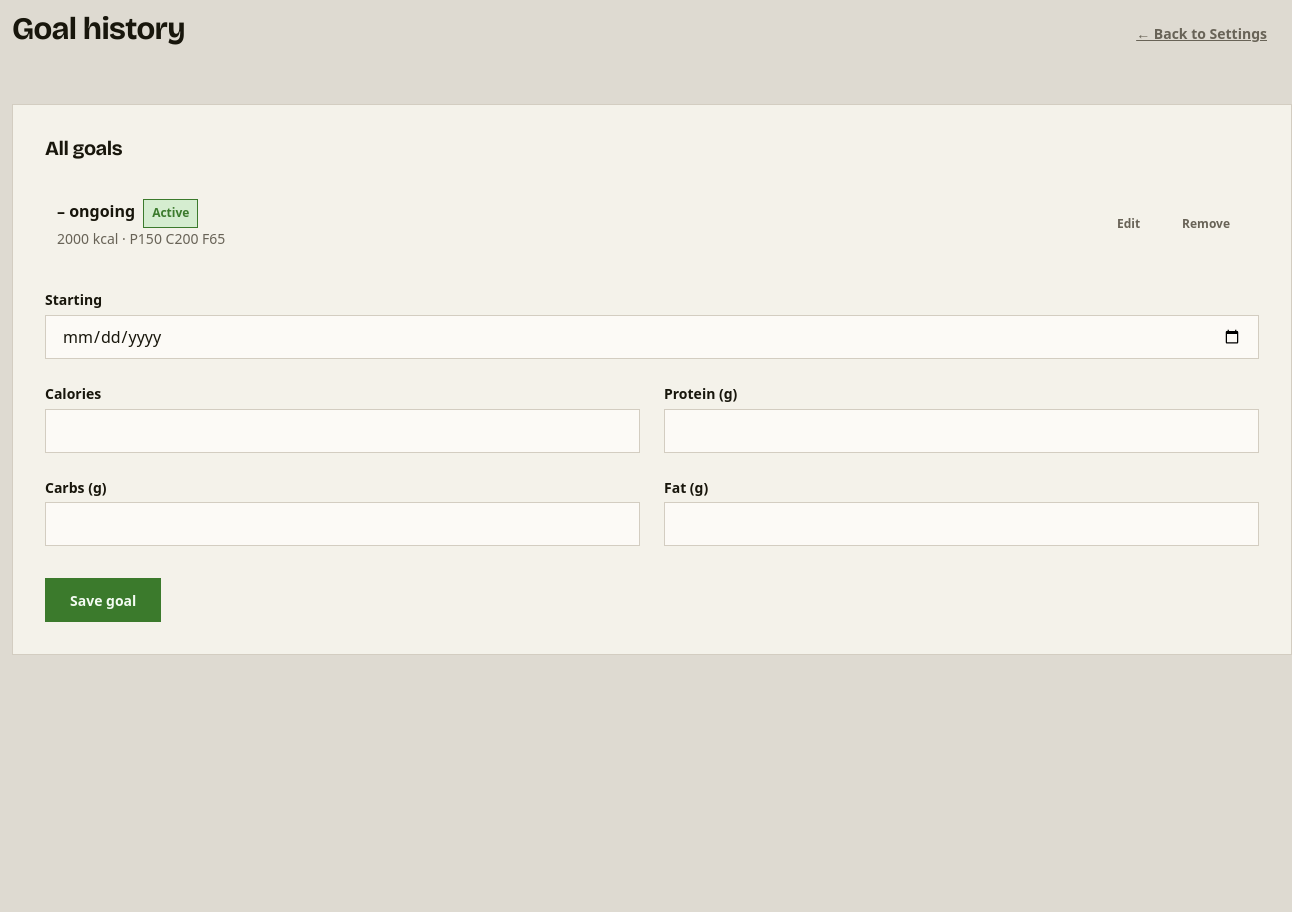
Scenario: GoalHistory › removes a version
The width and height of the screenshot is (1292, 912).
Click the button "Remove".
click(1206, 224)  # box [1165,206,1247,242]
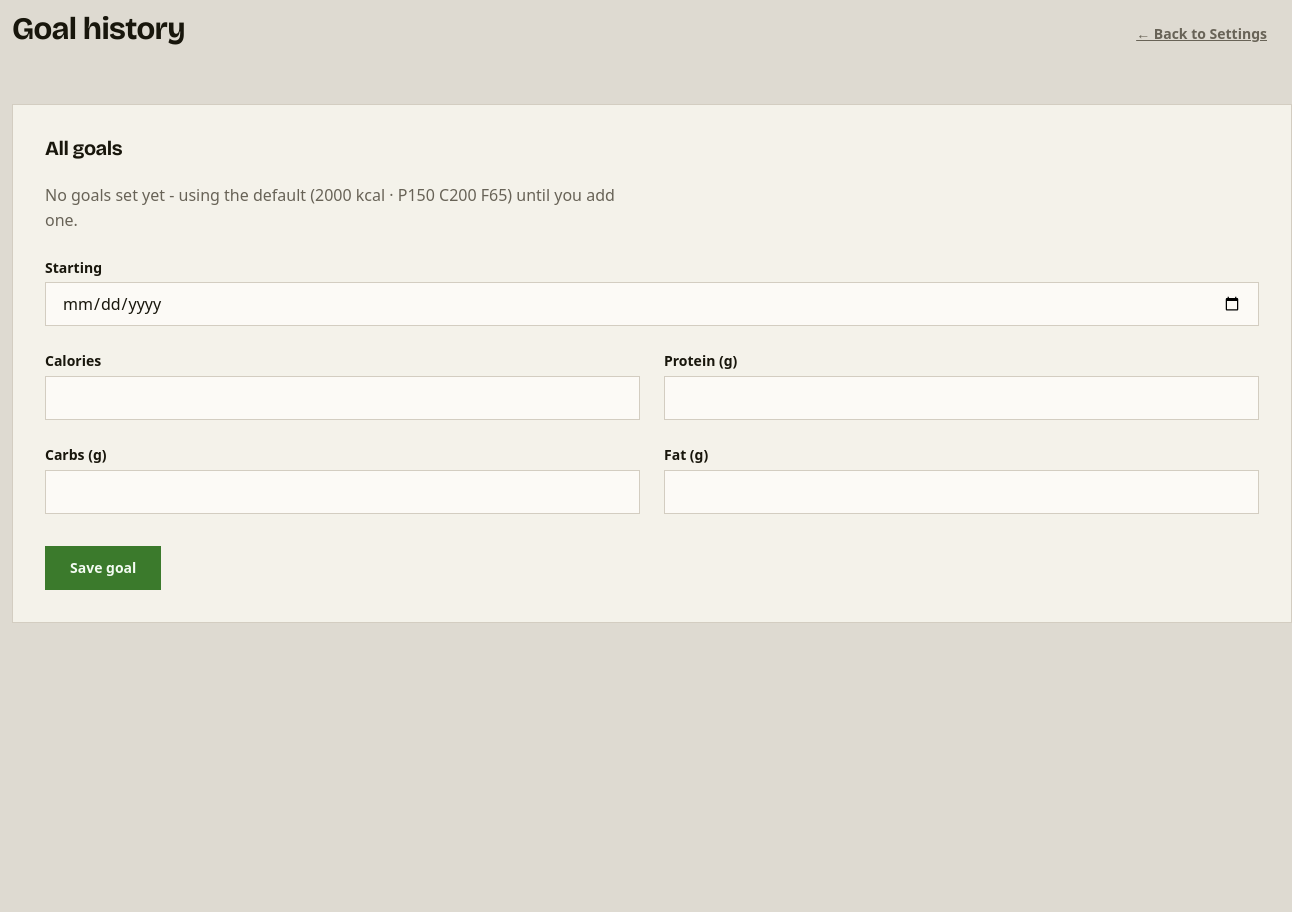
Now the button "Remove" is gone
